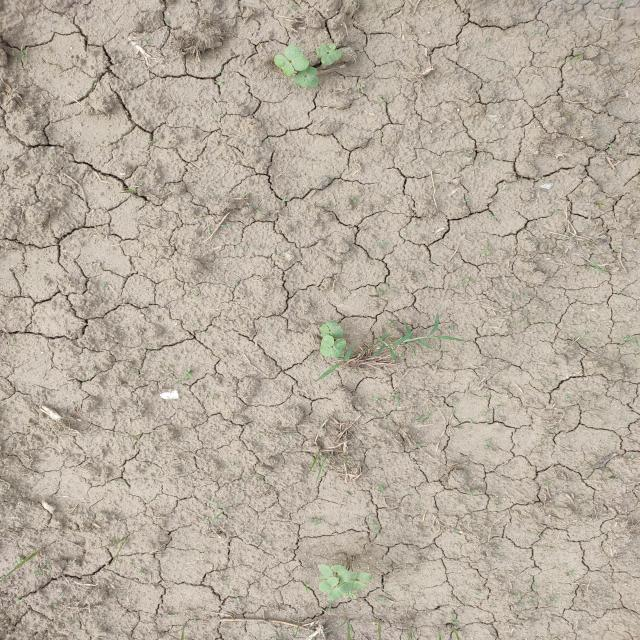seedling_s2: (285, 44, 309, 71), (274, 54, 295, 76), (327, 582, 349, 601), (293, 74, 319, 88), (321, 49, 342, 66), (339, 581, 368, 593), (315, 42, 337, 57), (331, 565, 350, 582), (319, 577, 339, 593), (326, 321, 344, 338), (331, 338, 346, 358), (320, 335, 334, 356), (345, 572, 372, 582), (318, 564, 333, 579), (297, 67, 318, 76), (320, 324, 329, 338)
